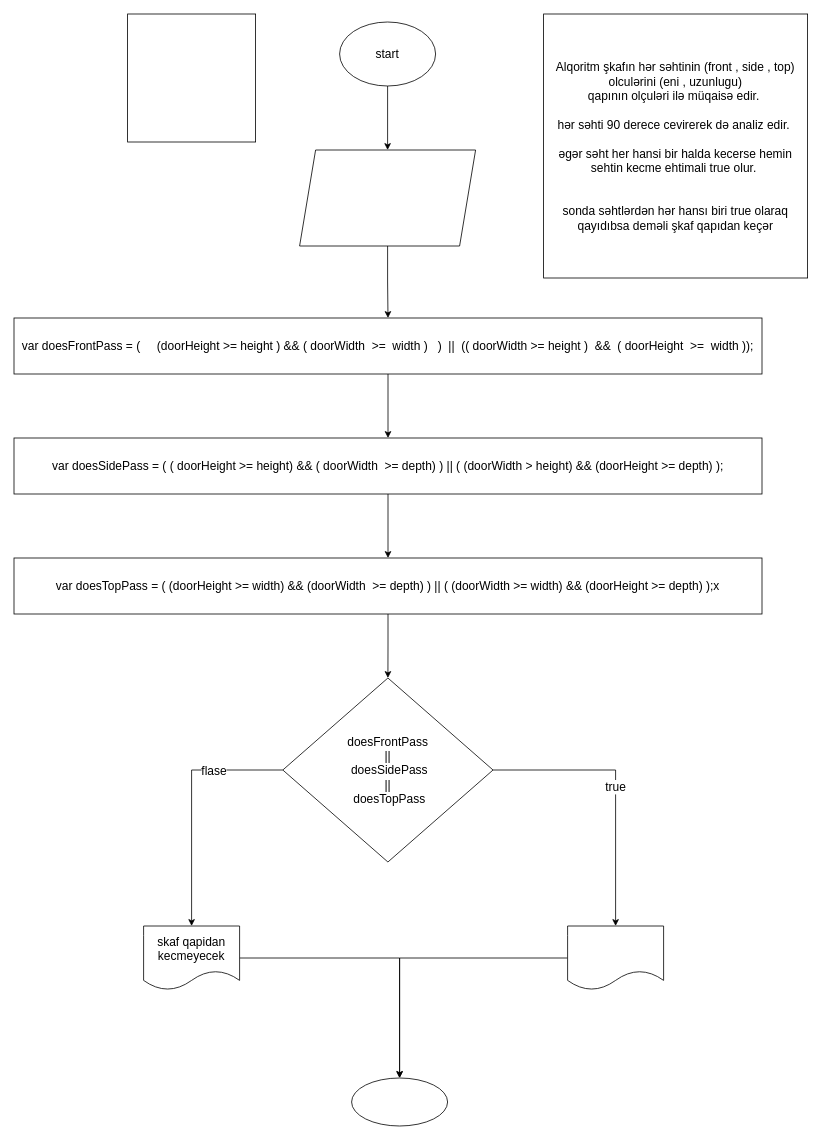
Image size: 822x1140. Some labels were removed from this diagram. The shapes that lost their labels are listed below. From the top down, each one's centre as x and y in pixels, then its label:
the point at 191,77: qapının və şkafın ölçüləri verilib şkaf qapıdan keçərmi
the point at 387,197: var doorHeight var doorWidth var width var height var depth
the point at 615,957: Skaf qapidan kececek
the point at 399,1101: end (ohh)
